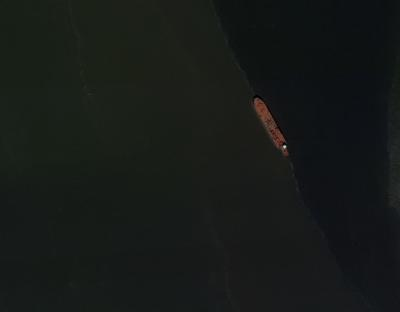Ships: (250, 95, 299, 159)
